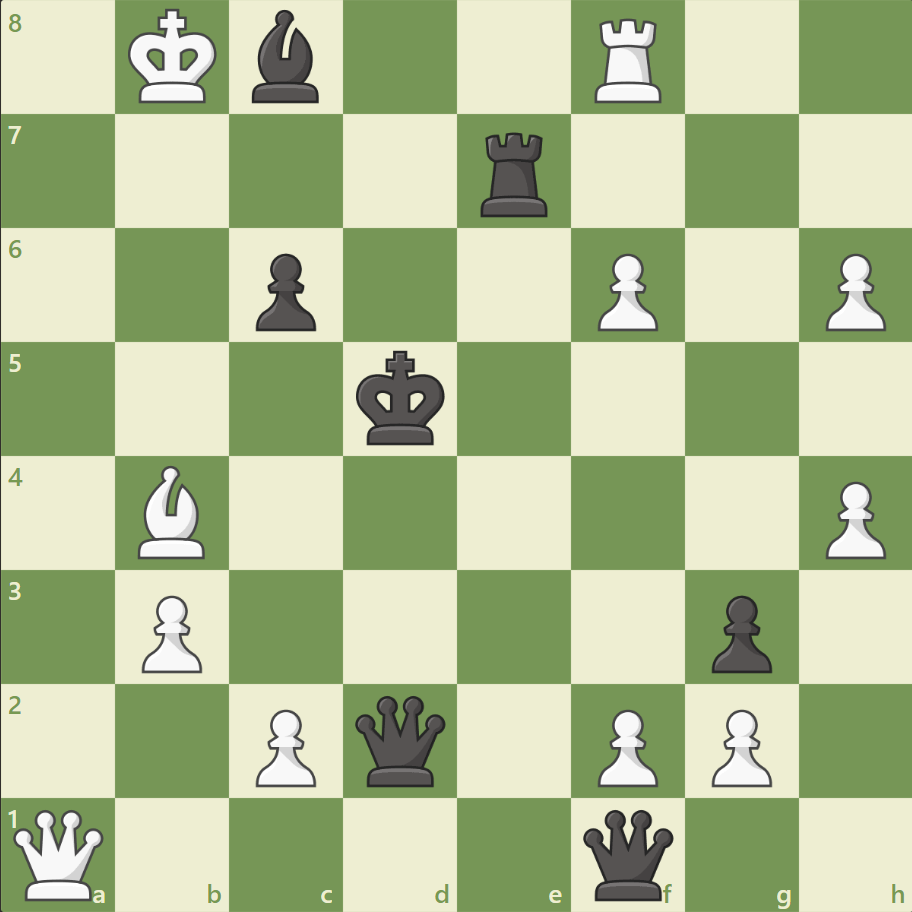B: (131, 460, 215, 563)
K: (124, 4, 224, 112)
P: (133, 586, 208, 677), (247, 700, 322, 791), (701, 700, 776, 791), (588, 246, 662, 337), (815, 246, 889, 337), (815, 473, 889, 564), (588, 700, 662, 791)
Q: (10, 804, 109, 903)
R: (587, 12, 670, 109)
b: (244, 6, 328, 109)
k: (351, 344, 451, 452)
p: (247, 246, 322, 337), (701, 586, 776, 677)
q: (351, 690, 450, 789), (578, 804, 677, 903)
r: (473, 125, 556, 222)
